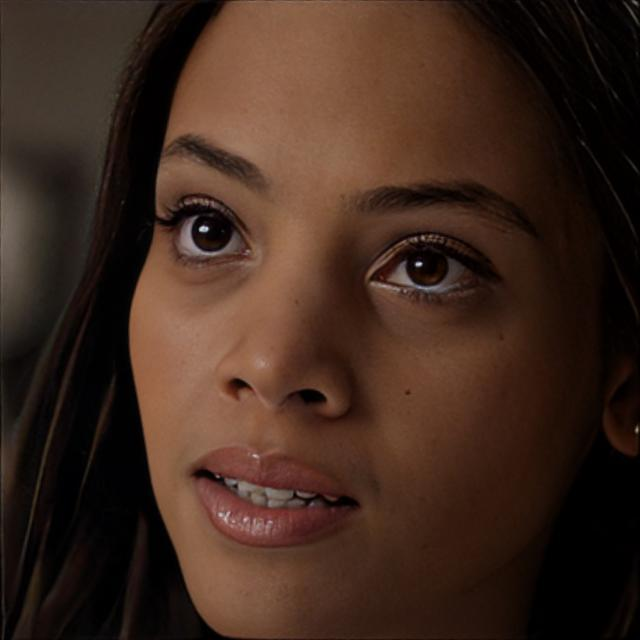neutral: (128, 3, 600, 640)
